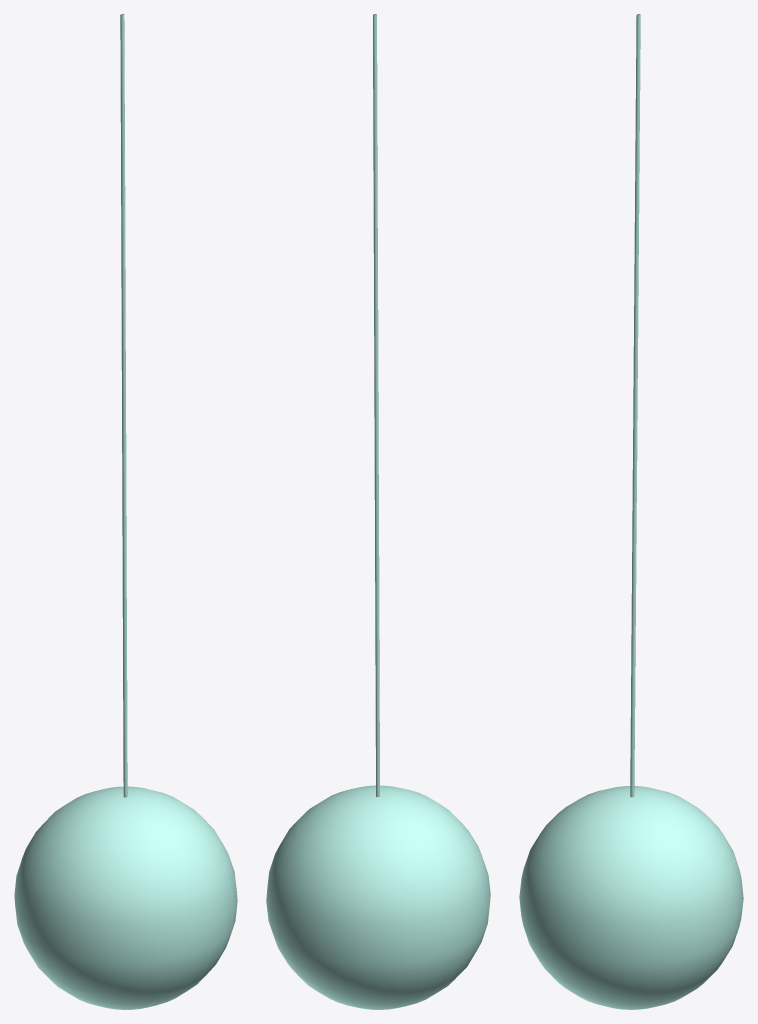
The model's file is pallo1.glb.
The picture shows the model from 3 angles, left to right: view 1: azimuth 30°, elevation 25°; view 2: azimuth 150°, elevation 25°; view 3: azimuth 270°, elevation 25°; orthographic projection.
Parts seen in each view (by area): view 1: Cylinder.001; view 2: Cylinder.001; view 3: Cylinder.001.
Part boxes in pixels (x1=…): Cylinder.001: x1=14, y1=14, x2=237, y2=1009; Cylinder.001: x1=266, y1=14, x2=490, y2=1009; Cylinder.001: x1=519, y1=14, x2=743, y2=1009.
Bounding box in the file's own units: 2 × 9.69 × 2.
